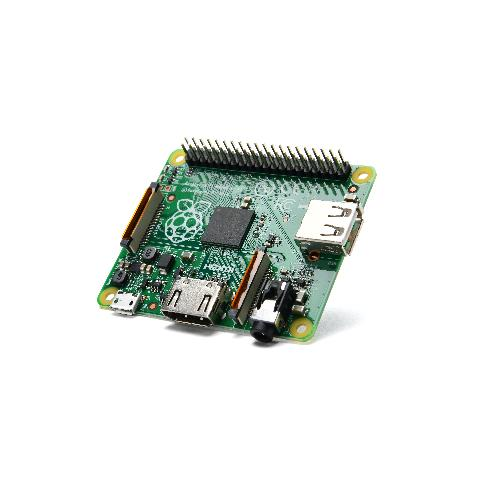Raspberry-Pi-1-Model-A-: (89, 128, 391, 358)
